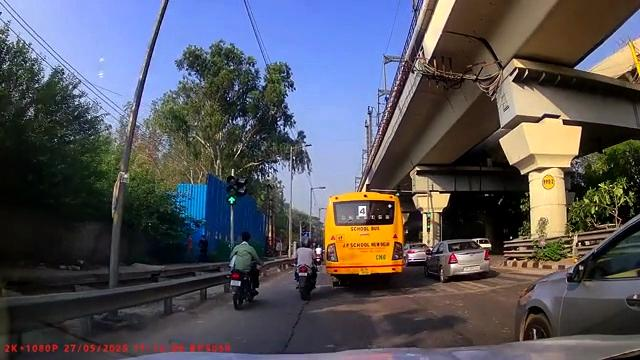motorcycle_without_helmet: (228, 231, 262, 310)
